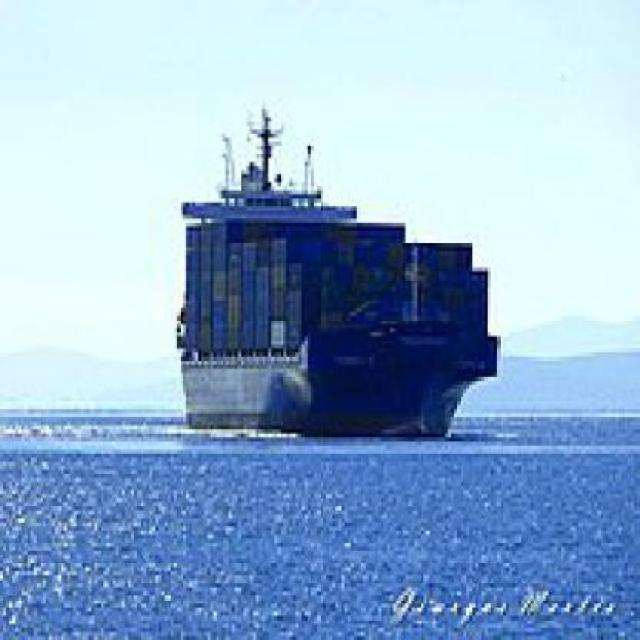container: (163, 123, 504, 447)
